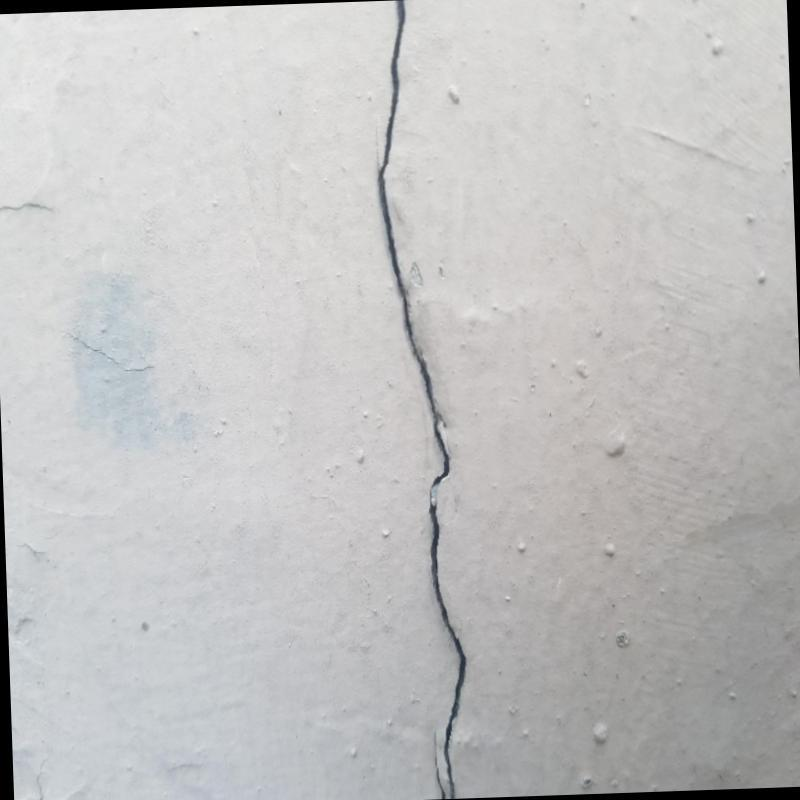pothole: (375, 0, 468, 796)
